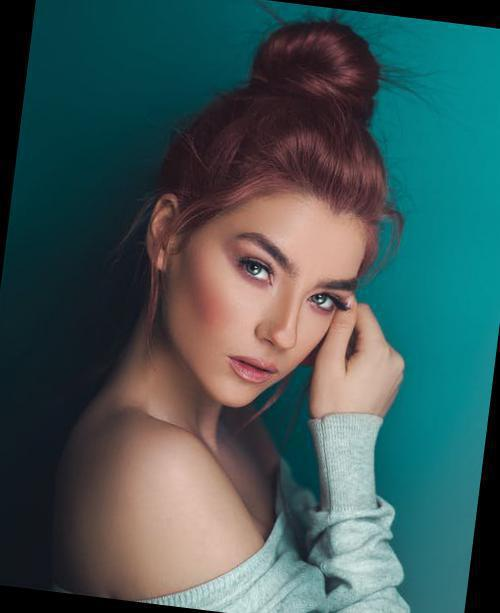Sober: (184, 189, 347, 399)
